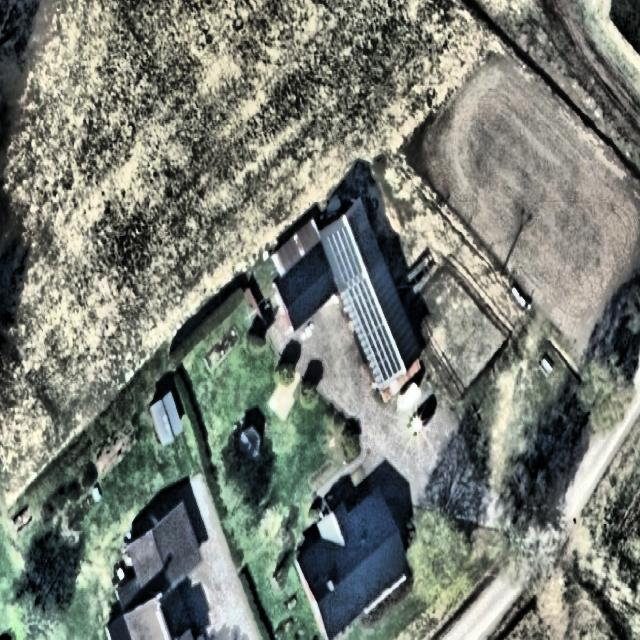roof_pv: (365, 323, 403, 382), (330, 224, 364, 284), (348, 278, 382, 331)
